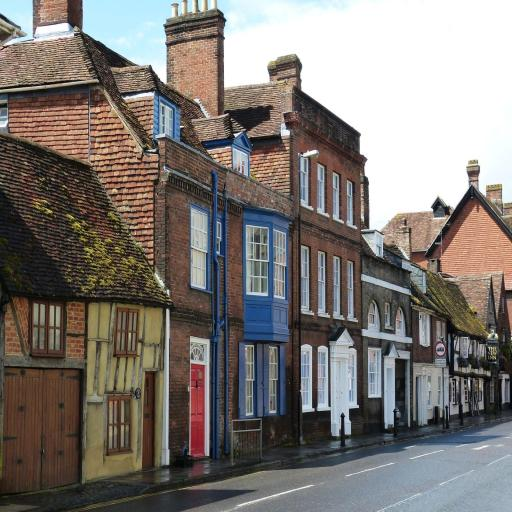door: (189, 338, 212, 458)
